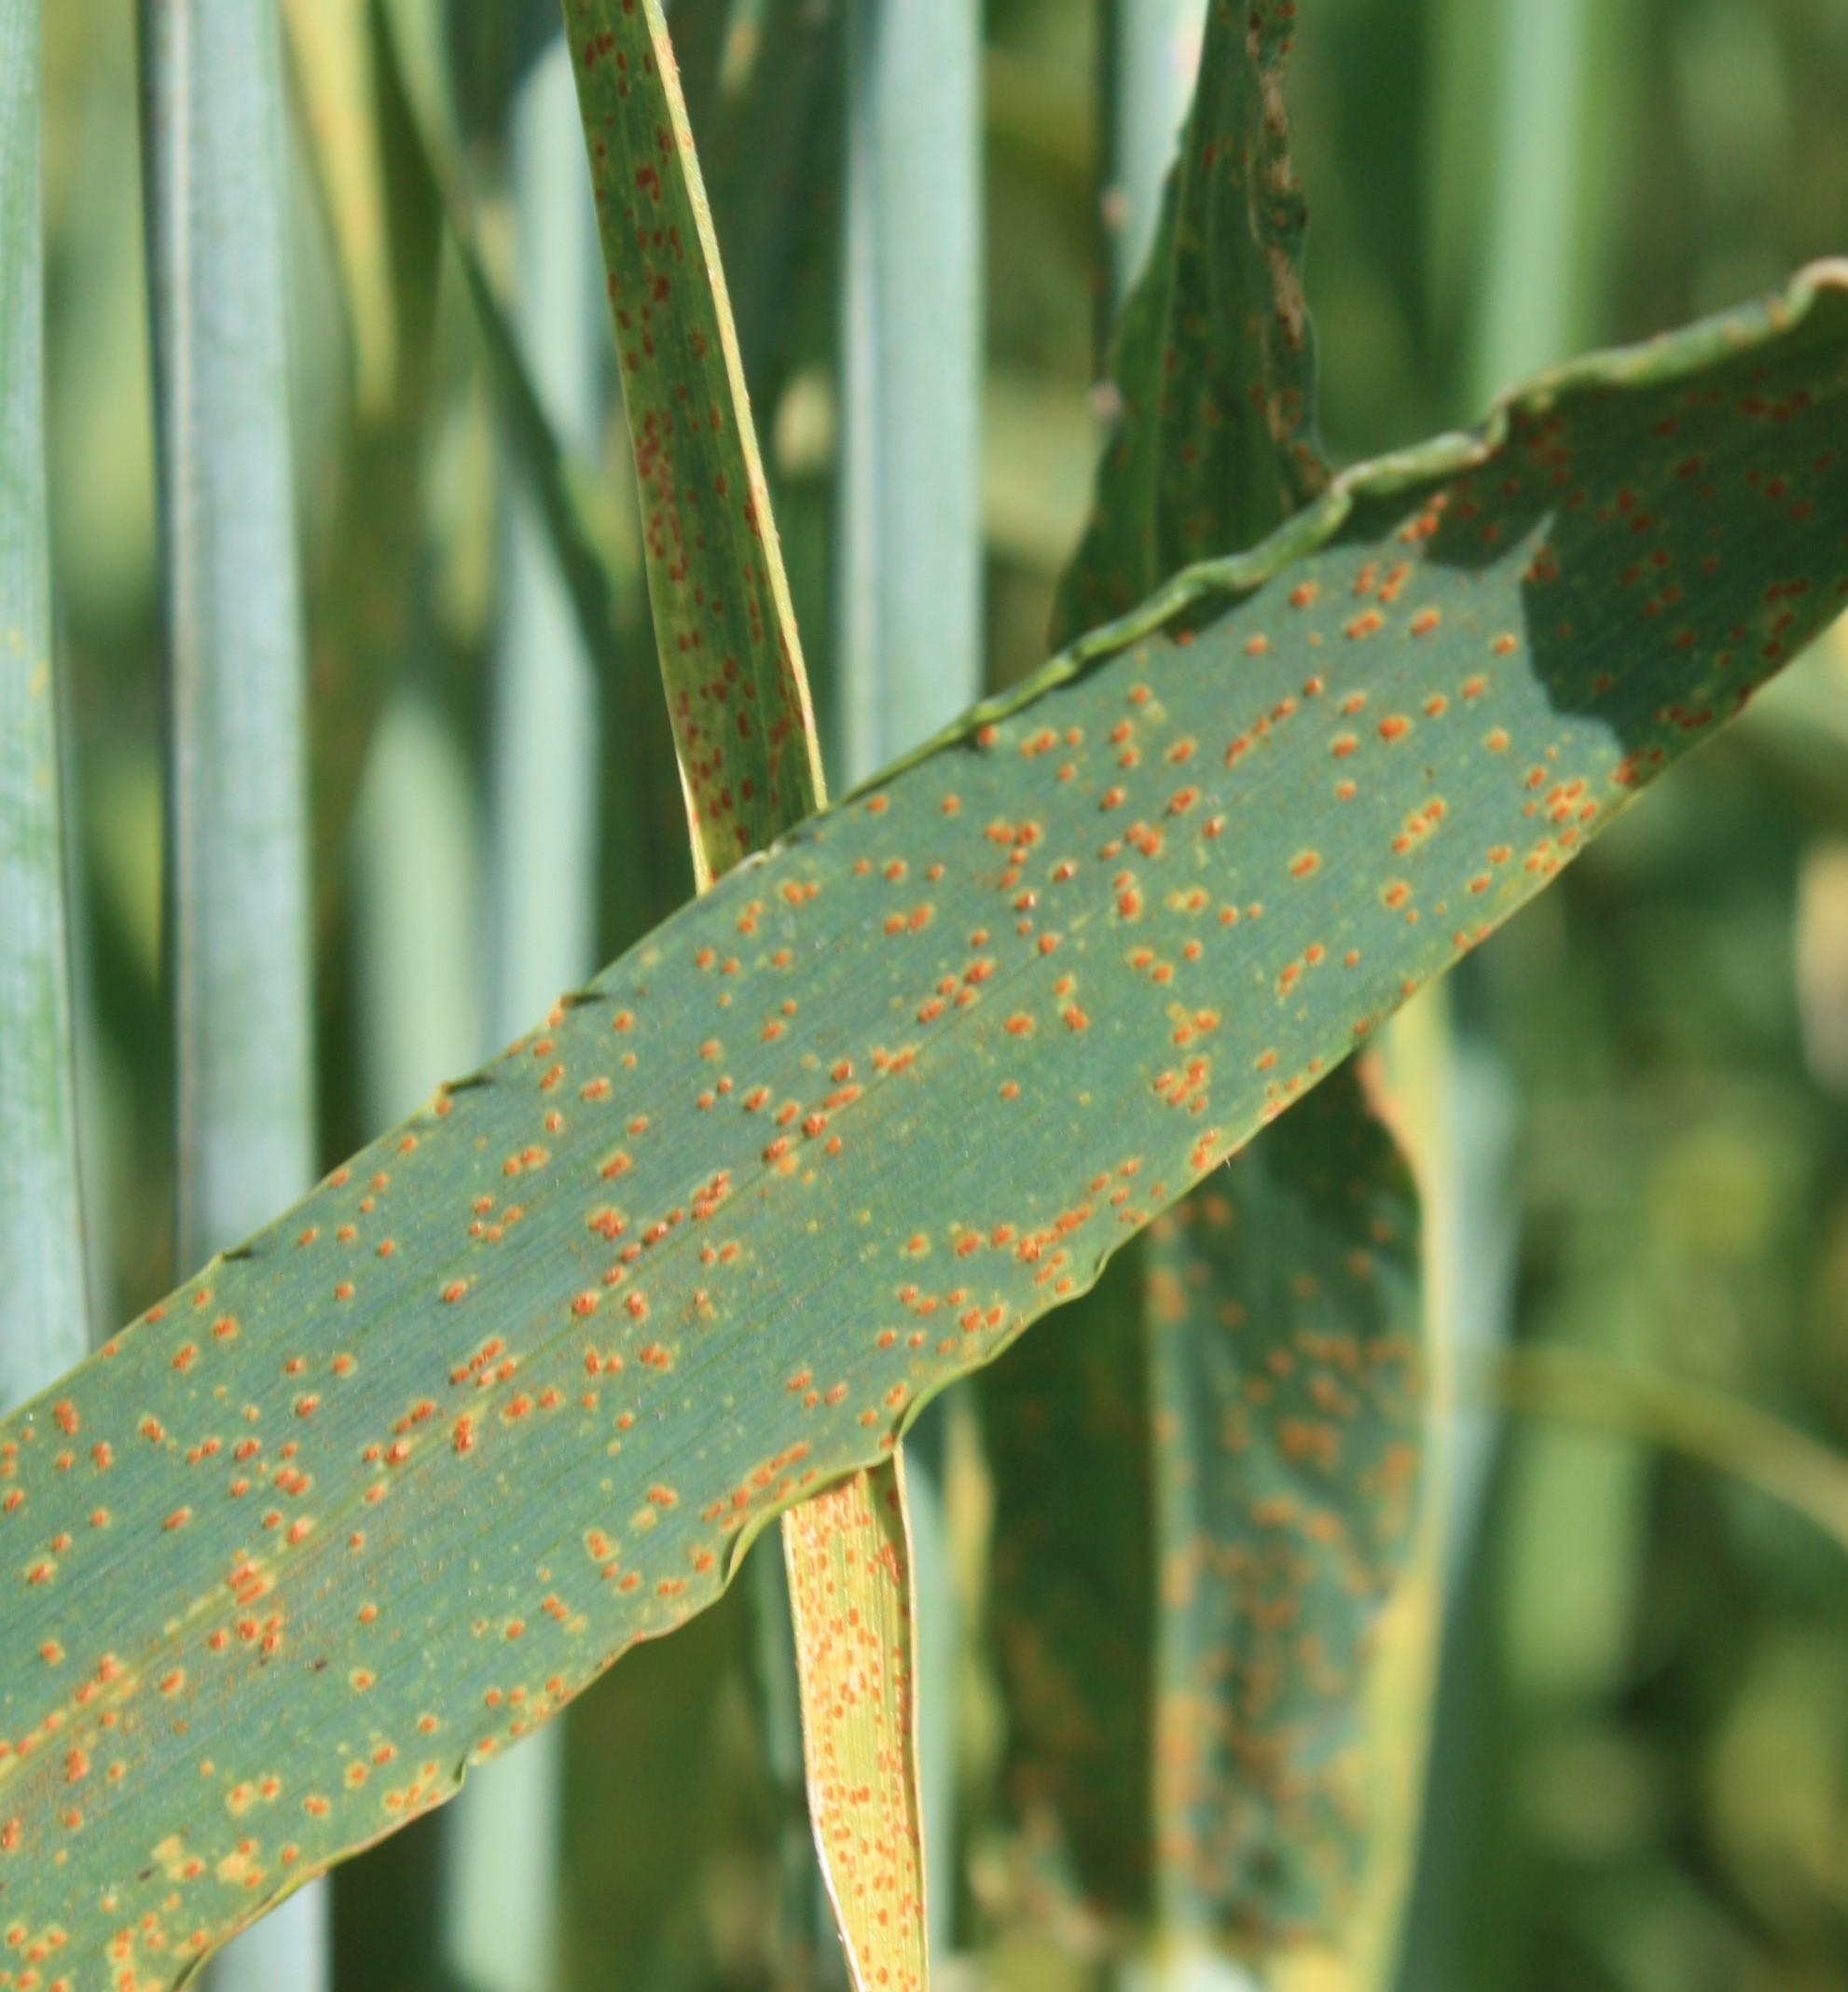Leaf Rust: (158, 530, 1563, 1733)
